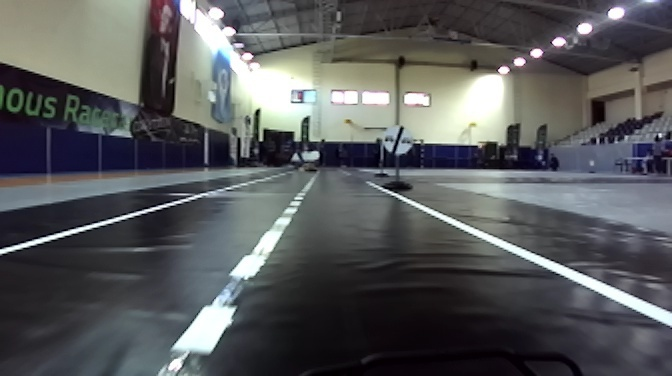sollama_serbest: (382, 124, 413, 155)
